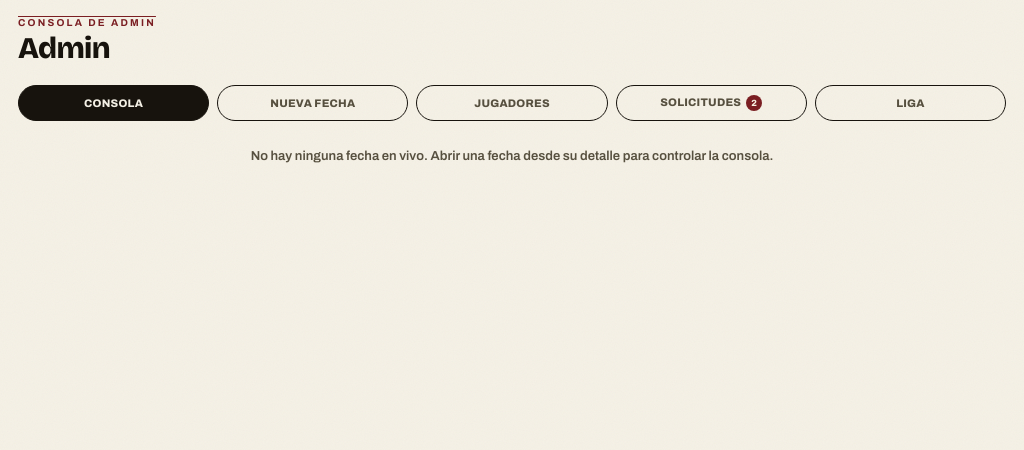
Scenario: Admin — Solicitudes (access requests, 0022) › shows a pending badge and lists the requests
Expected: the text with test id "requests-badge" reads "2", [751, 98, 757, 108]
Click the tab "Solicitudes 2": (711, 103) [616, 85, 807, 121]
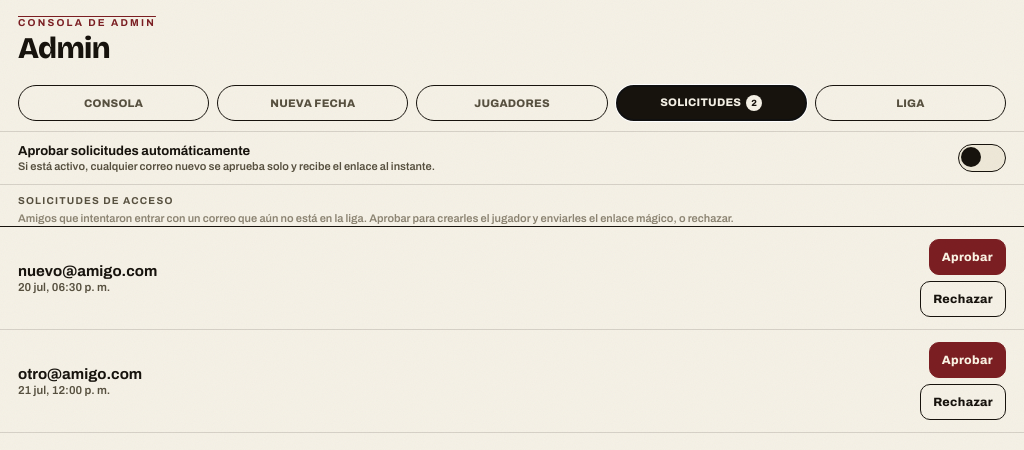
Expected: the number of elements with test id "request-row" is 2, [0, 227, 1023, 330]; [0, 330, 1023, 433]
Expected: the text "nuevo@amigo.com" is shown, [18, 263, 157, 279]
Expected: the text "otro@amigo.com" is shown, [18, 366, 142, 382]
